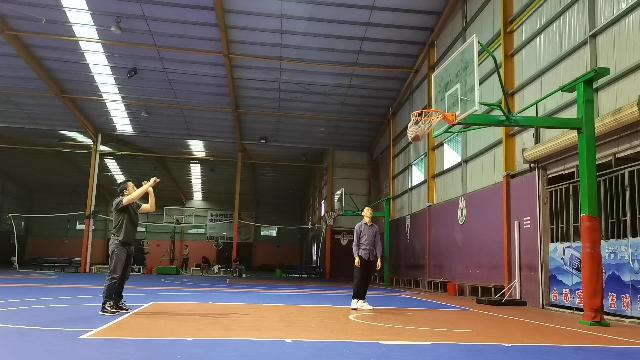basket: (410, 108, 444, 142), (324, 209, 336, 224)
goal: (409, 125, 425, 141)
